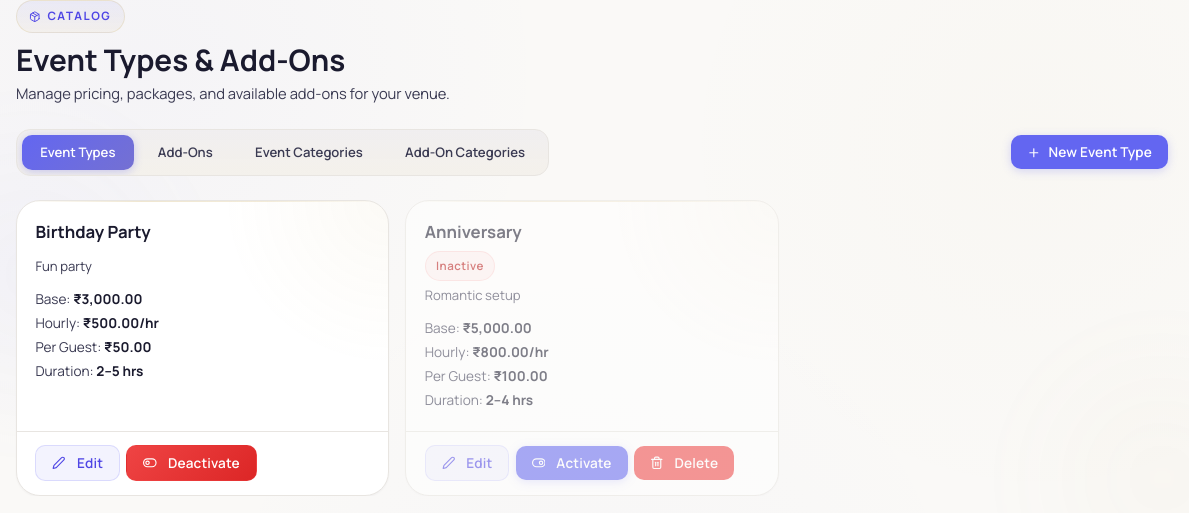
Scenario: AdminEventTypes Comprehensive › Tab Switching › switches between Event Types and Add-Ons tabs
The width and height of the screenshot is (1189, 513).
Expected: the text "Birthday Party" is shown, [35,220,151,243]
Click the button "Add-Ons" at (185, 152), box [139,135,231,170]
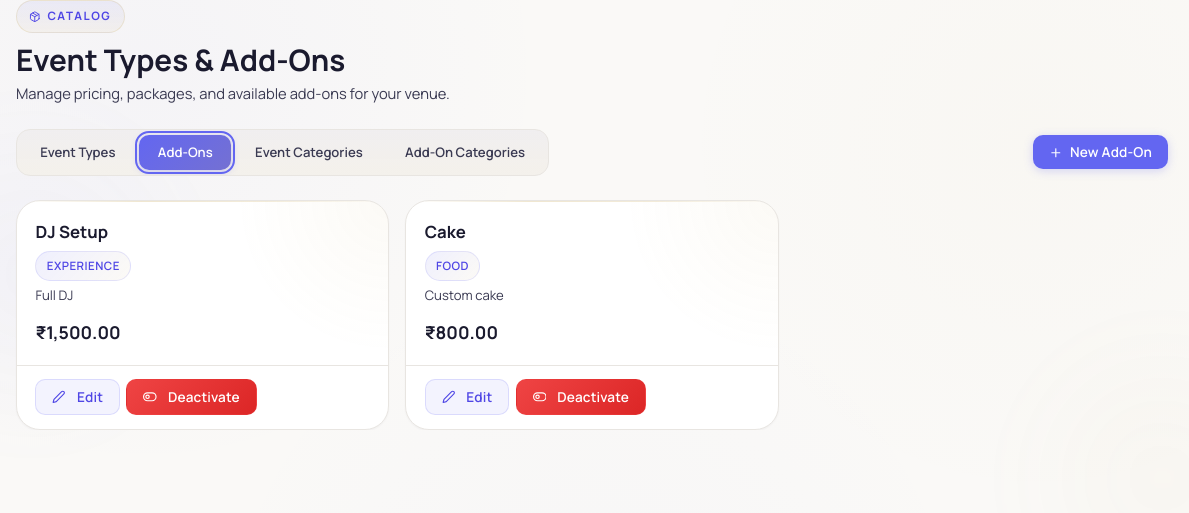
Expected: the text "DJ Setup" is shown, [35,220,108,243]
Expected: the text "Cake" is shown, [425,220,466,243]
